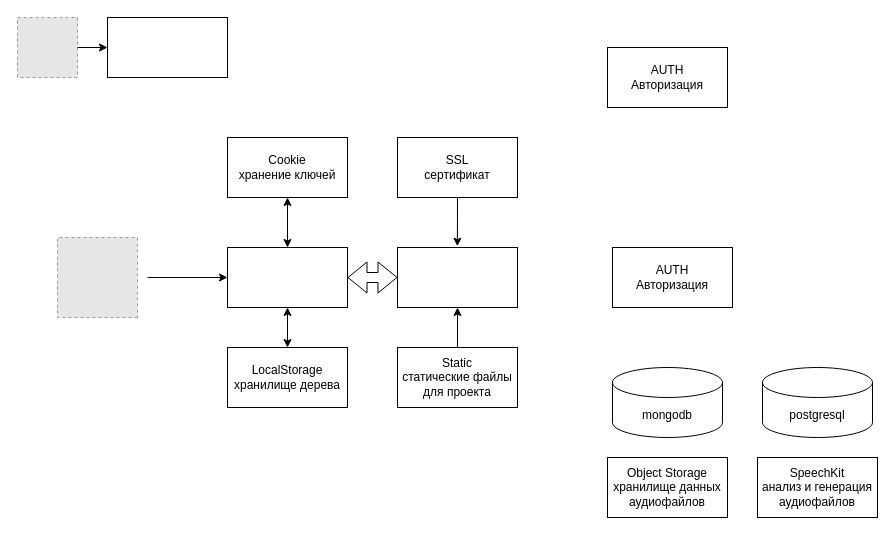
The diagram is 895 pixels wide and 535 high, and some of its shapes have lost their labels. Grey dashed boxes stand in for pictures. The centre of each missing label's shape, as x and y in pixels:
"NGINX" goes at pixel 457 277.
"Vosk.js для распознавание речи" goes at pixel 167 47.
"САЙТ" goes at pixel 287 277.
